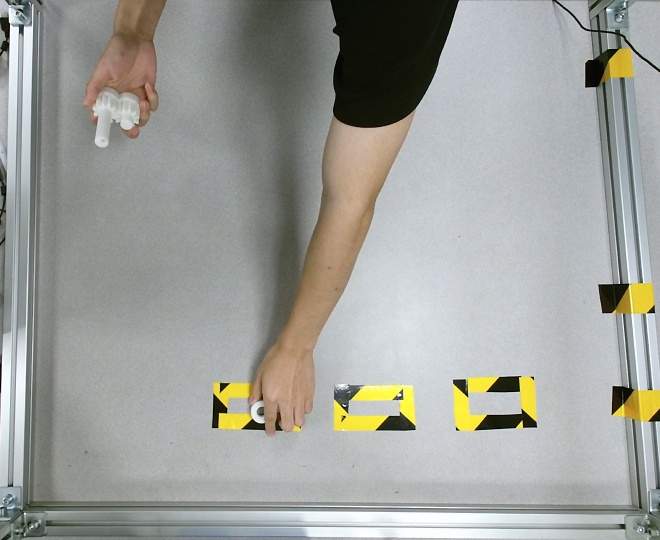stage_3: (94, 87, 139, 148)
